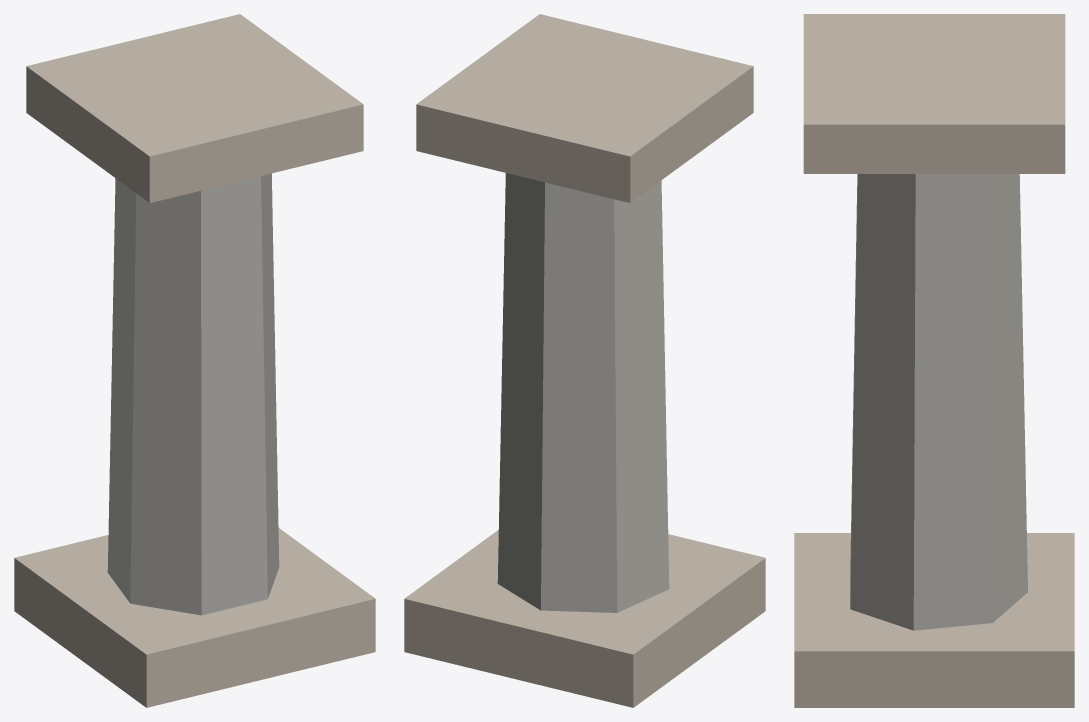
File: column_v05.glb
The picture shows the model from 3 angles, left to right: view 1: azimuth 30°, elevation 25°; view 2: azimuth 150°, elevation 25°; view 3: azimuth 270°, elevation 25°; orthographic projection. The views are drawn at different scales.
Parts seen in each view (by area): view 1: lod0; view 2: lod0; view 3: lod0.
Part boxes in pixels (<box>): lod0: <box>14,14,375,707</box>; lod0: <box>404,14,765,707</box>; lod0: <box>794,14,1074,707</box>.
Size of what is drawn, in the model's own units: 0.72 by 1.64 by 0.72.
